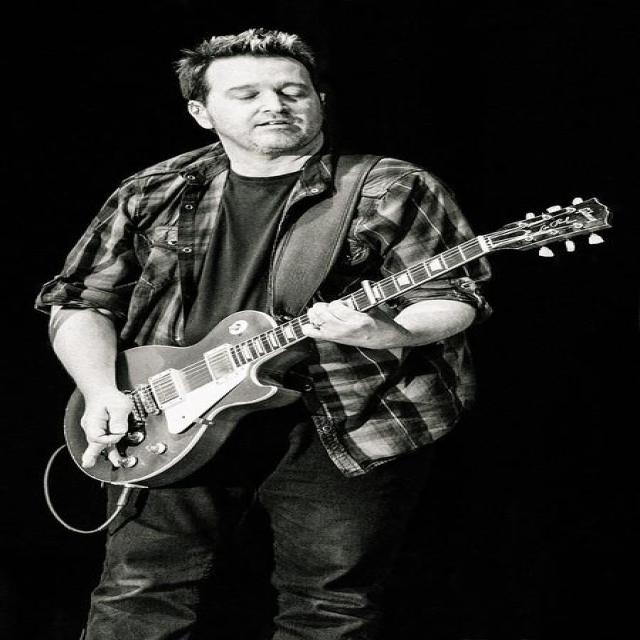guitar: (64, 311, 308, 487)
